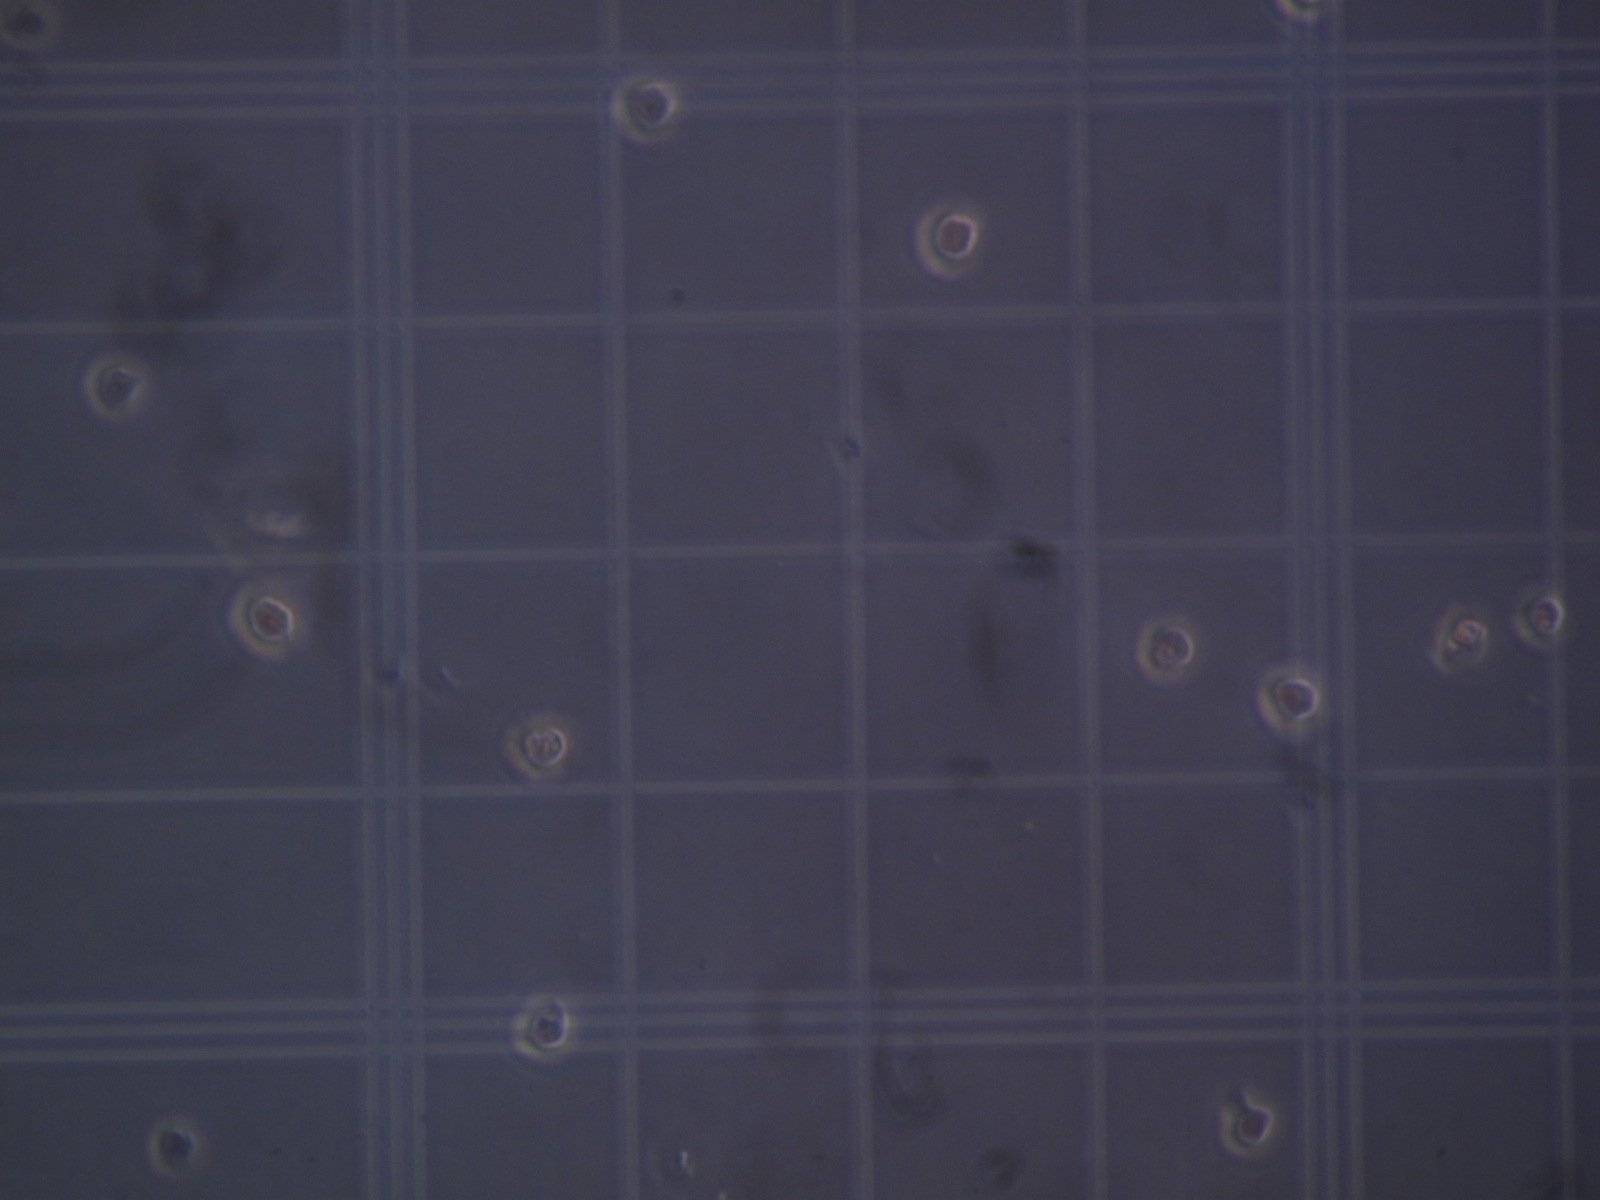hemo: (227, 580, 297, 658), (913, 202, 979, 280), (610, 74, 678, 145), (1256, 664, 1322, 737), (501, 713, 569, 782), (1135, 613, 1199, 684), (82, 353, 147, 421), (511, 995, 573, 1063), (1511, 586, 1565, 652), (147, 1117, 204, 1179), (1220, 1100, 1276, 1158), (1436, 604, 1490, 661), (1, 1, 58, 50)
